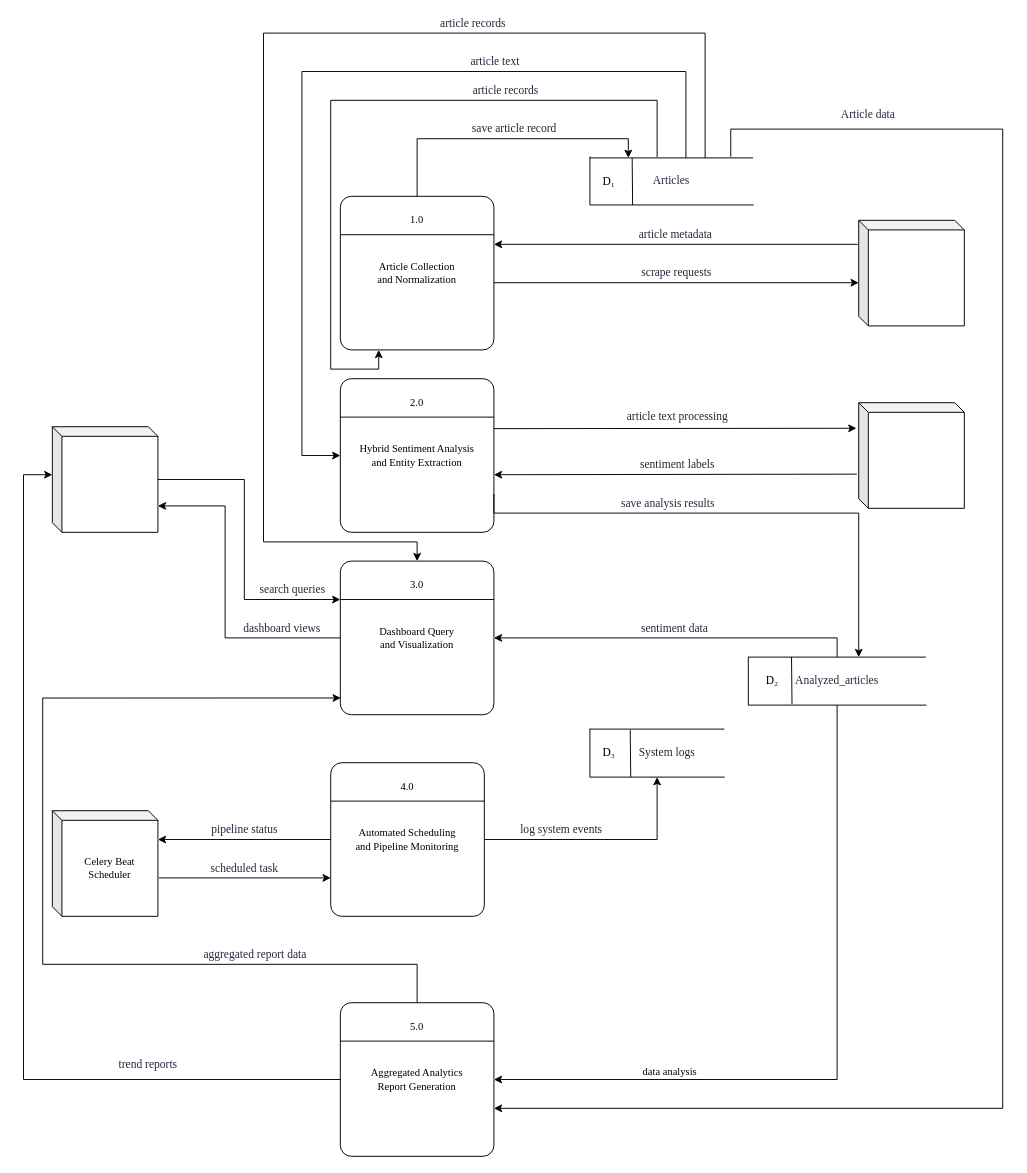
Some shapes in this 1027 by 1173 pixel diagram are drawn without their labels. The centre of each missing label's shape, as x and y in pixels:
"Hybrid NLP (VADER / DistilBERT / spaCy)" goes at pixel 911 455.
"Philippine Online News Sources" goes at pixel 911 272.
"Researcher / User" goes at pixel 104 479.
